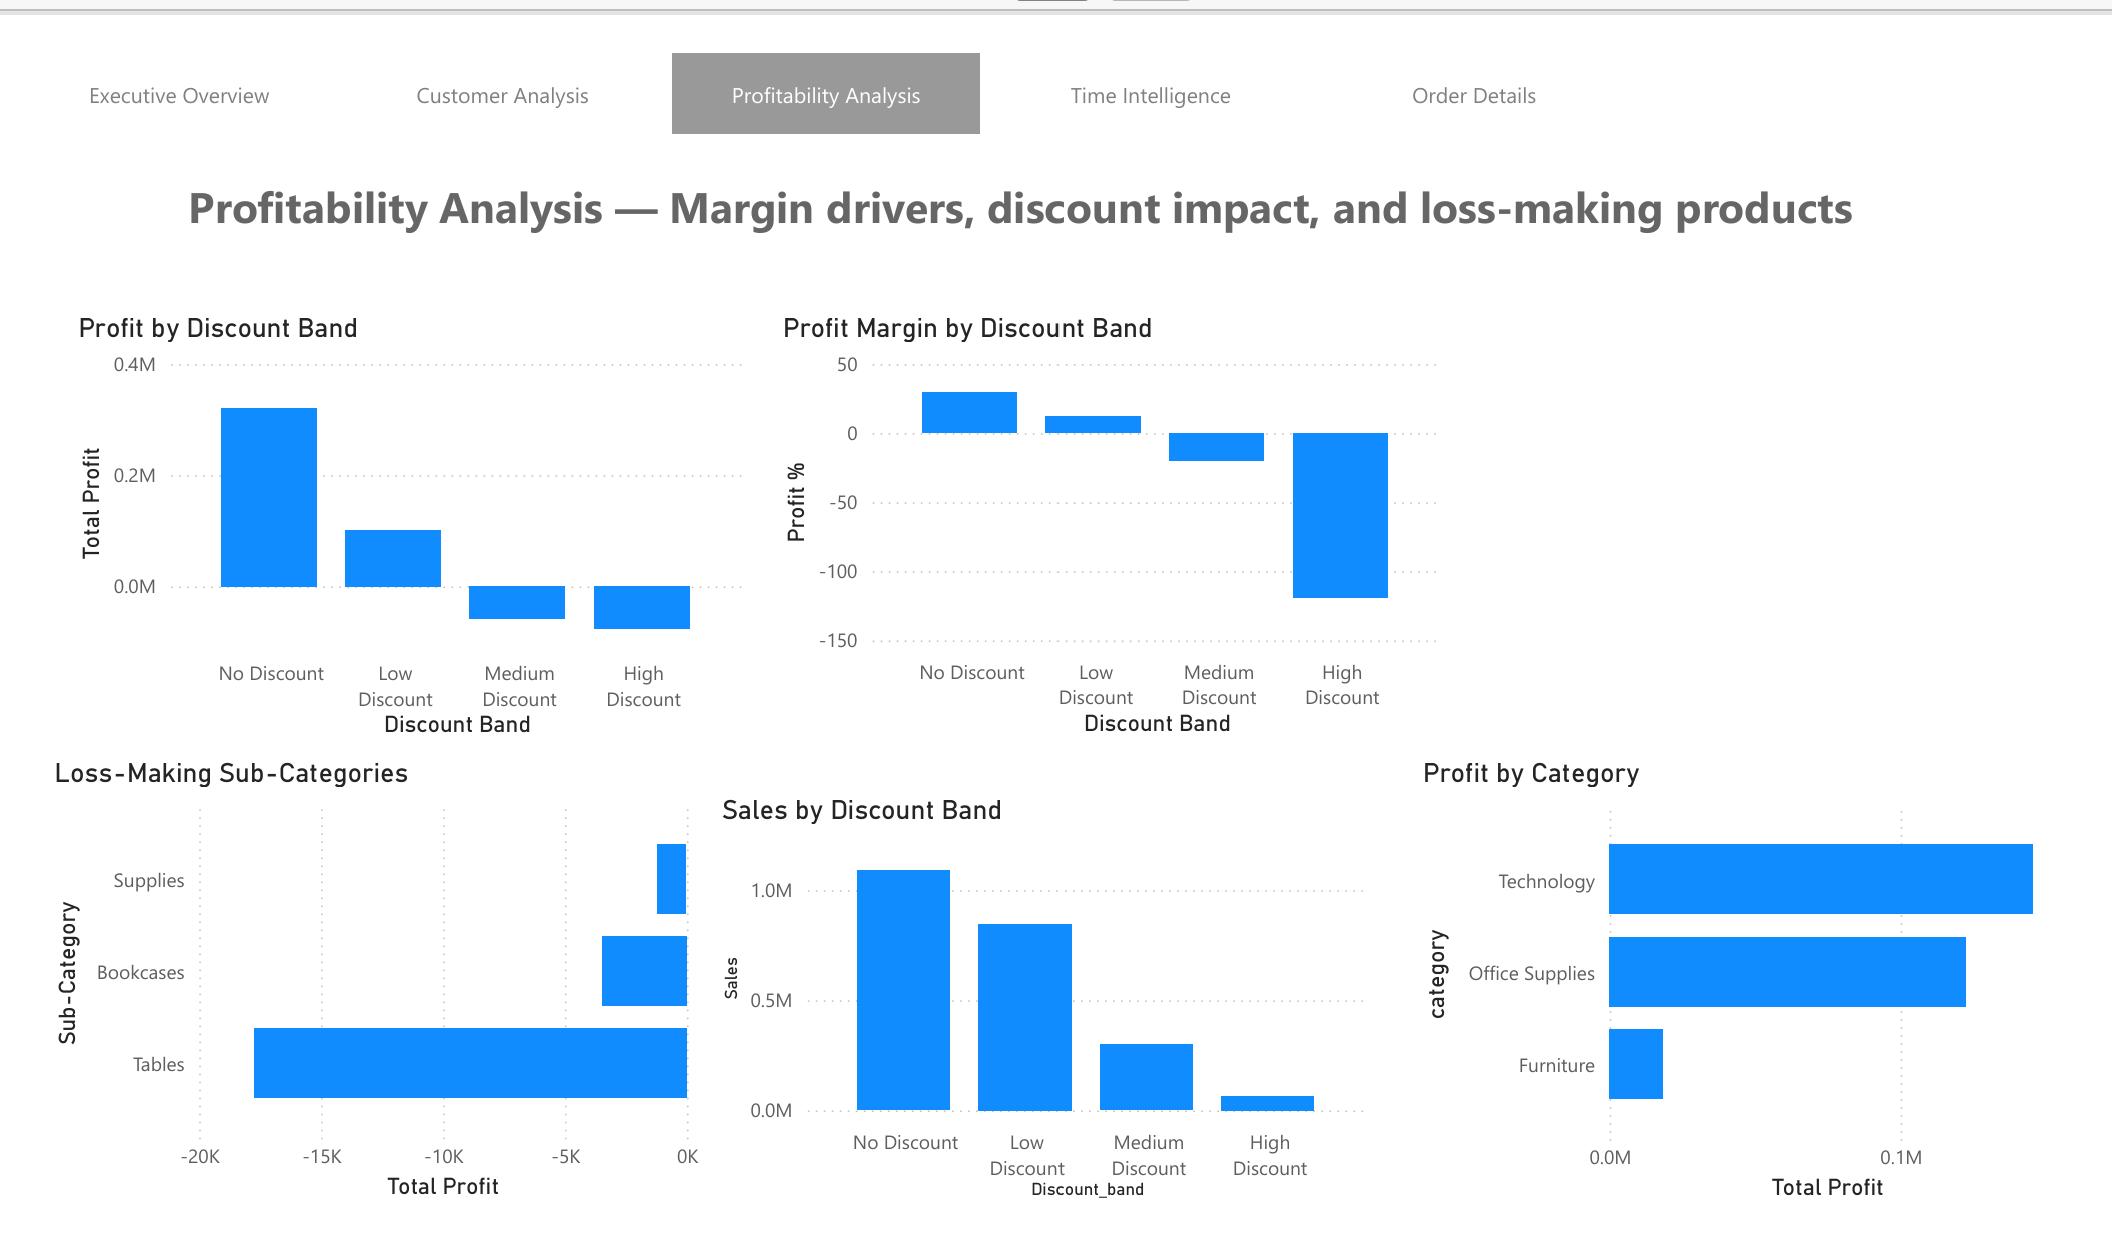

The page's visual inventory and layout, read from the dashboard file:
{"tool":"powerbi","page":{"name":"Profitability Analysis","canvas":[1280,720],"ordinal":2},"visuals":[{"type":"clusteredColumnChart","title":"Profit by Discount Band","fields":{"Category":["public vw_discount_analysis.discount_band"],"Y":["Sum(public vw_discount_analysis.total_profit)"]},"box":[28.4,160.9,424.1,270.8],"z":0},{"type":"clusteredColumnChart","title":"Profit Margin by Discount Band","fields":{"Category":["public vw_discount_analysis.discount_band"],"Y":["public vw_discount_analysis.Profit_Margin %"]},"box":[467.7,160.9,420.4,270],"z":1000},{"type":"clusteredColumnChart","title":"Sales by Discount Band","fields":{"Category":["public vw_discount_analysis.discount_band"],"Y":["Sum(public vw_discount_analysis.total_sales)"]},"box":[429.8,462,412,258],"z":2000},{"type":"clusteredBarChart","title":"Profit by Category","fields":{"Category":["public vw_discount_analysis.category"],"Y":["Sum(public vw_discount_analysis.total_profit)"]},"box":[867.2,439.3,412.8,282.1],"z":3000},{"type":"clusteredBarChart","title":"Loss-Making Sub-Categories","fields":{"Category":["public vw_discount_analysis.sub_category"],"Y":["Sum(public vw_discount_analysis.total_profit)"]},"box":[13.3,439.3,412,281],"z":4000},{"type":"pageNavigator","box":[0,0,1000,50],"z":5000},{"type":"textbox","box":[28.4,72,1185.3,89],"z":6000}]}

Visuals, with their boxes on the page's 1280x720 design canvas (x1, y1, x2, y2). These are canvas units, not pixel positions in the 2112x1234 screenshot, which may show the page scaled, cropped or inside an application window:
"Profit by Discount Band" clusteredColumnChart: [28,161,452,432]
"Profit Margin by Discount Band" clusteredColumnChart: [468,161,888,431]
"Sales by Discount Band" clusteredColumnChart: [430,462,842,720]
"Profit by Category" clusteredBarChart: [867,439,1280,721]
"Loss-Making Sub-Categories" clusteredBarChart: [13,439,425,720]
pageNavigator: [0,0,1000,50]
textbox: [28,72,1214,161]
